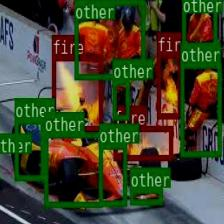fire: (51, 54, 102, 131), (113, 125, 172, 159), (156, 52, 181, 117)
